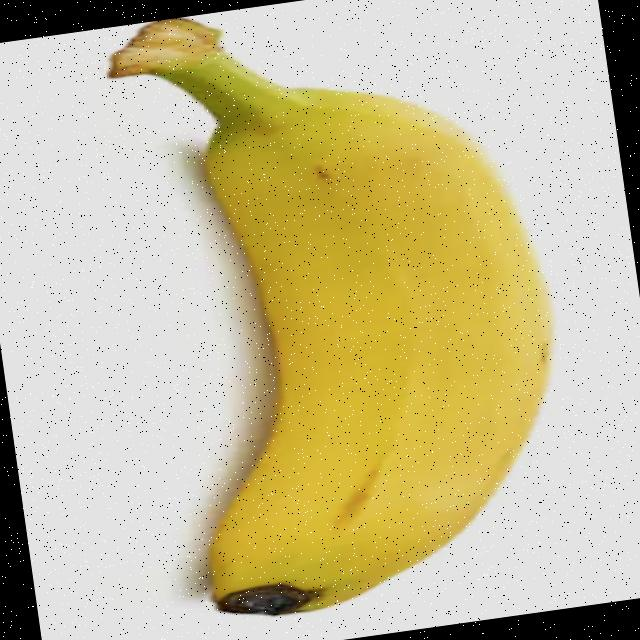Ripe: (128, 15, 601, 630)
